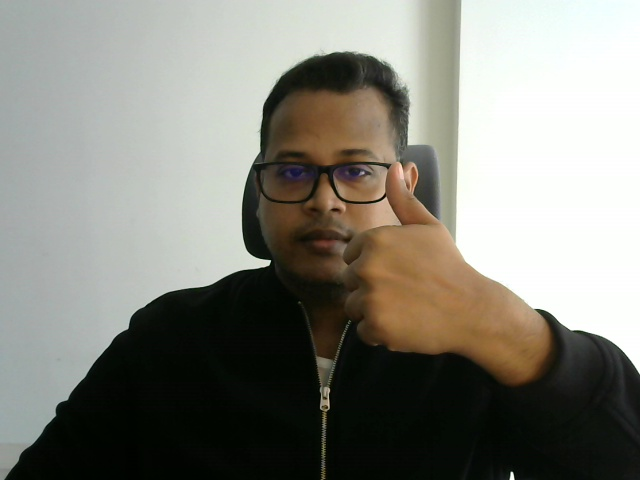ThumbsUp: (344, 162, 469, 354)
